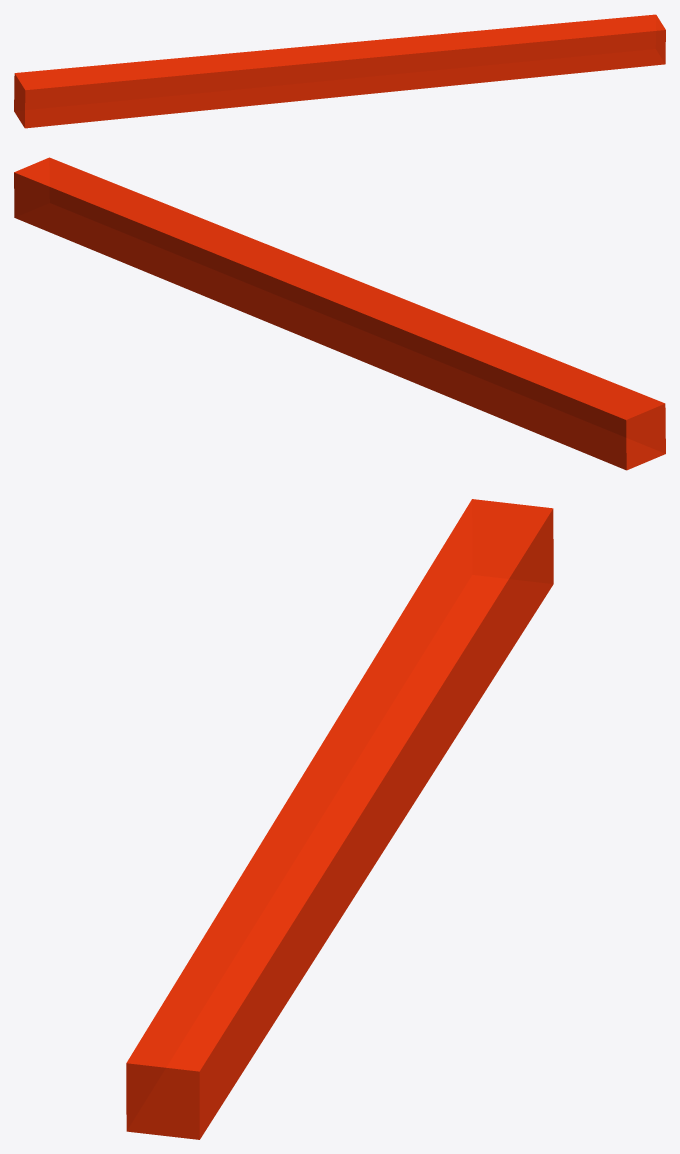
File: Event_421556567_EErechit_37.fbx
The picture shows the model from 3 angles, top to bottom: view 1: azimuth 30°, elevation 25°; view 2: azimuth 150°, elevation 25°; view 3: azimuth 270°, elevation 25°; orthographic projection. The views are drawn at different scales.
Parts seen in each view (by area): view 1: Model; view 2: Model; view 3: Model.
Part boxes in pixels (left/top/right/bottom): Model: left=14, top=14, right=665, bottom=128; Model: left=14, top=157, right=665, bottom=470; Model: left=126, top=499, right=553, bottom=1139.
Size of the model in its own units: 1.24 by 0.0972 by 0.4086.
